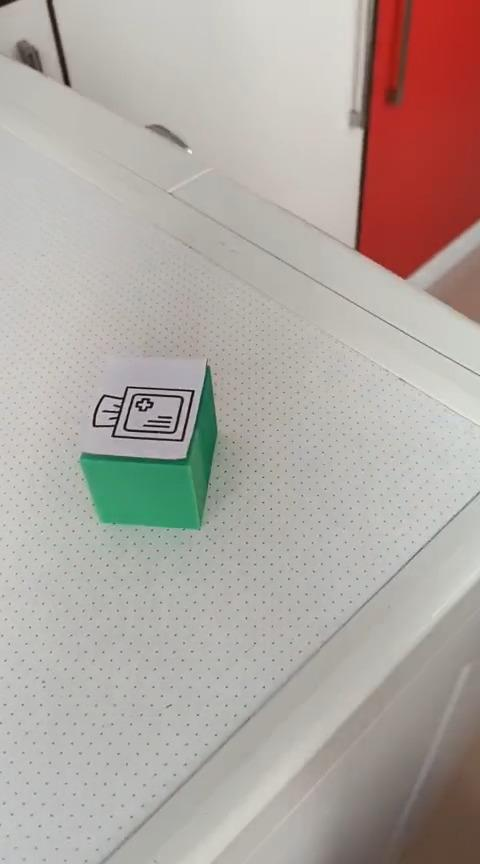Gauze: (77, 353, 218, 531)
